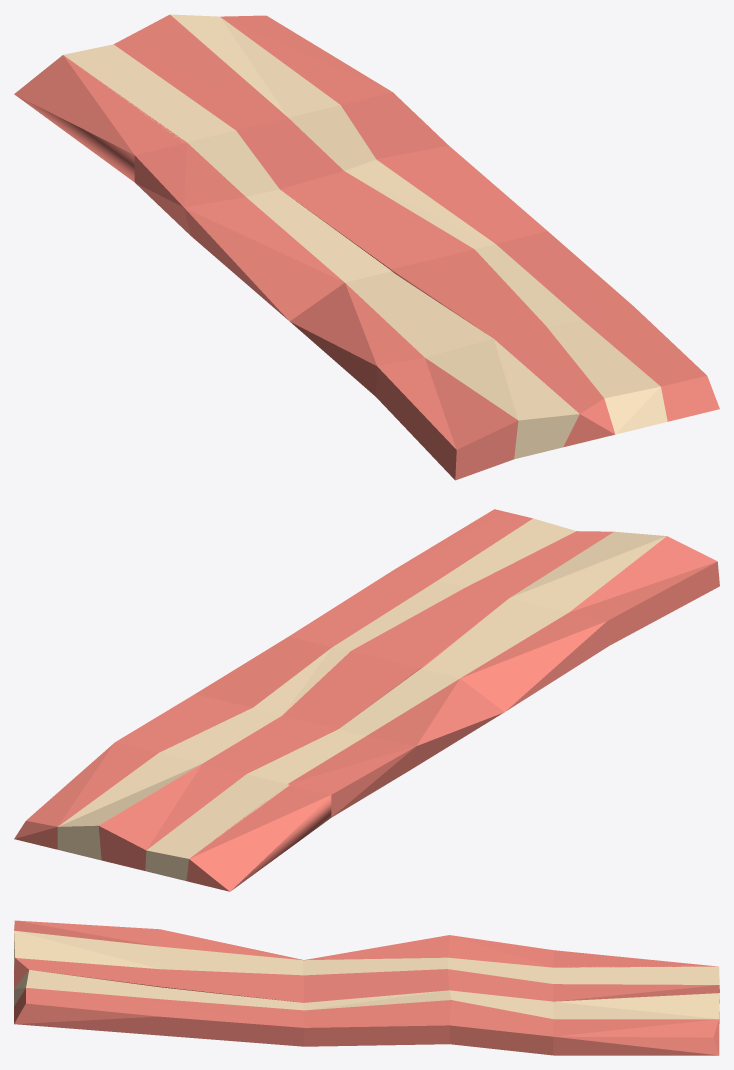
Rendered from Bacon.fbx.
3 views of the same model, one above another, from view 1: azimuth 30°, elevation 25°; view 2: azimuth 150°, elevation 25°; view 3: azimuth 270°, elevation 25° (orthographic). The views are drawn at different scales.
Parts seen in each view (by area): view 1: model; view 2: model; view 3: model.
Part boxes in pixels (bbox=[...]): model: bbox=[14, 14, 719, 480]; model: bbox=[14, 509, 719, 891]; model: bbox=[14, 920, 719, 1055].
Bounding box in the file's own units: 12.62 × 1.88 × 34.03.
